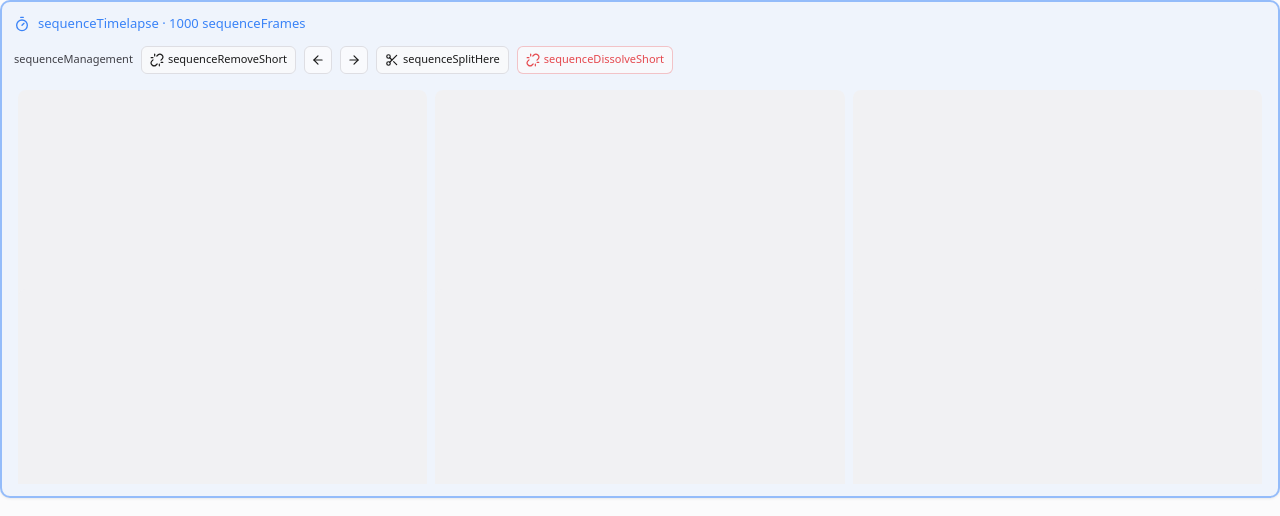
Test: SequenceFocusTray › optimistically shows the new order without collapsing the tray
Click the button named "sequenceMoveDown" at (354, 60), box [340,46,368,74]
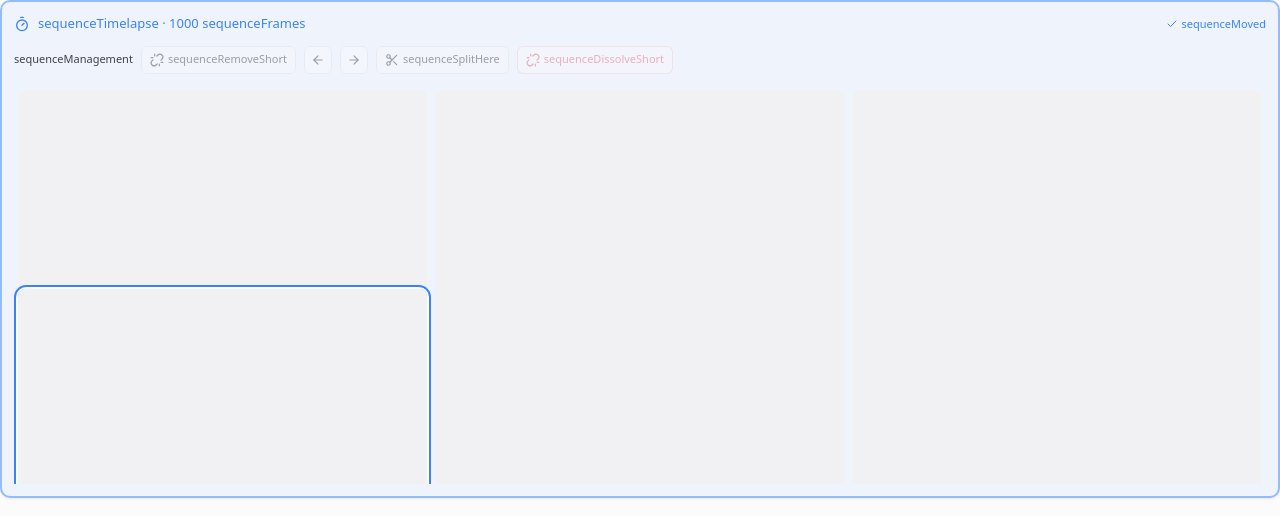
expect the message "sequenceMoved" is shown: met, box [1166,16,1266,32]
